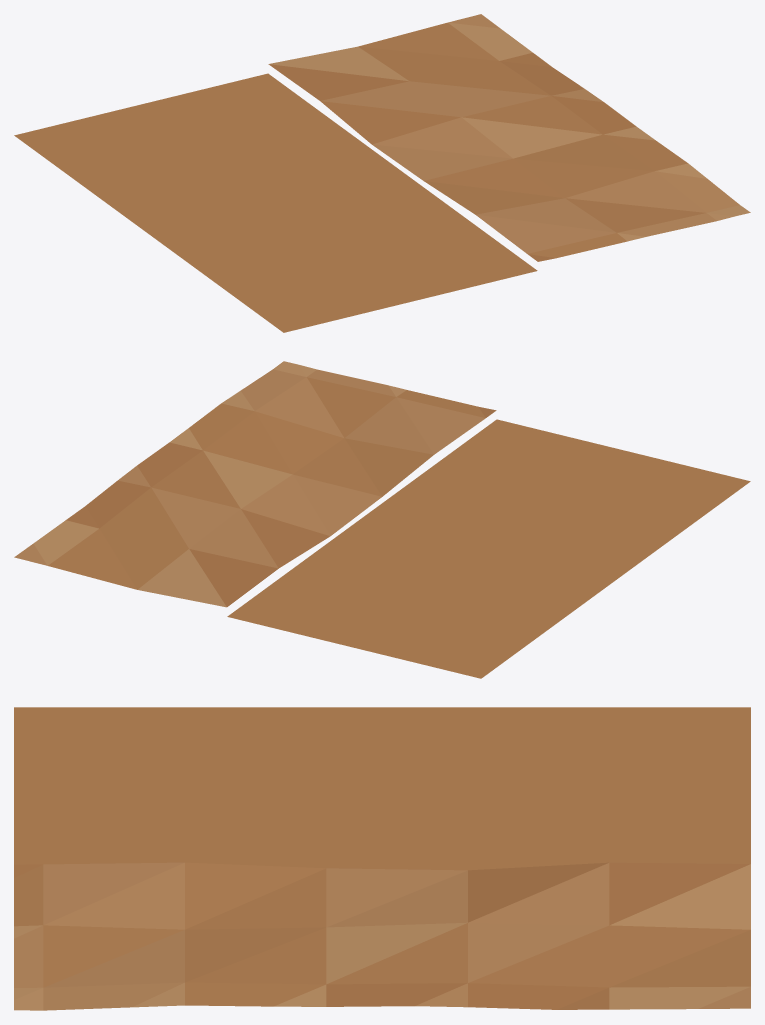
3 views of the same model, one above another, from view 1: azimuth 30°, elevation 25°; view 2: azimuth 150°, elevation 25°; view 3: azimuth 270°, elevation 25° (orthographic). The views are drawn at different scales.
Visible parts, largest first — view 1: baked; view 2: baked; view 3: baked.
Part boxes in pixels (x1=…): baked: x1=14, y1=14, x2=750, y2=332; baked: x1=14, y1=361, x2=750, y2=678; baked: x1=14, y1=707, x2=750, y2=1010.
Bounding box in the file's own units: 62.5 × 1.33 × 62.5.
